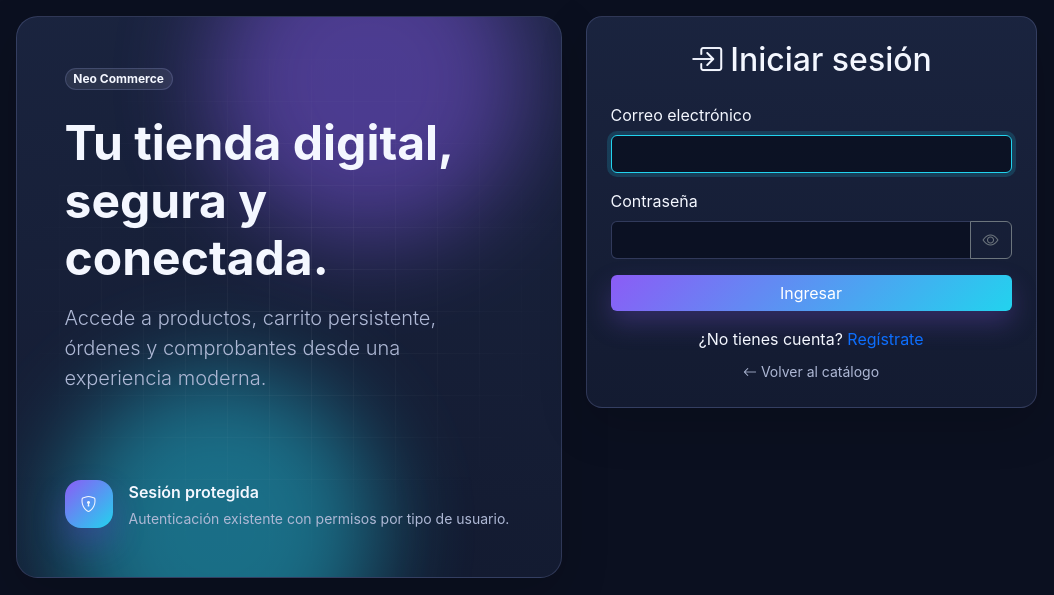
Test: LoginPage › login 401 muestra "Credenciales inválidas."
Type "a@b.com" into the field labelled "Correo electrónico".
click(811, 154); type("a@b.com")  # box [610, 135, 1012, 173]
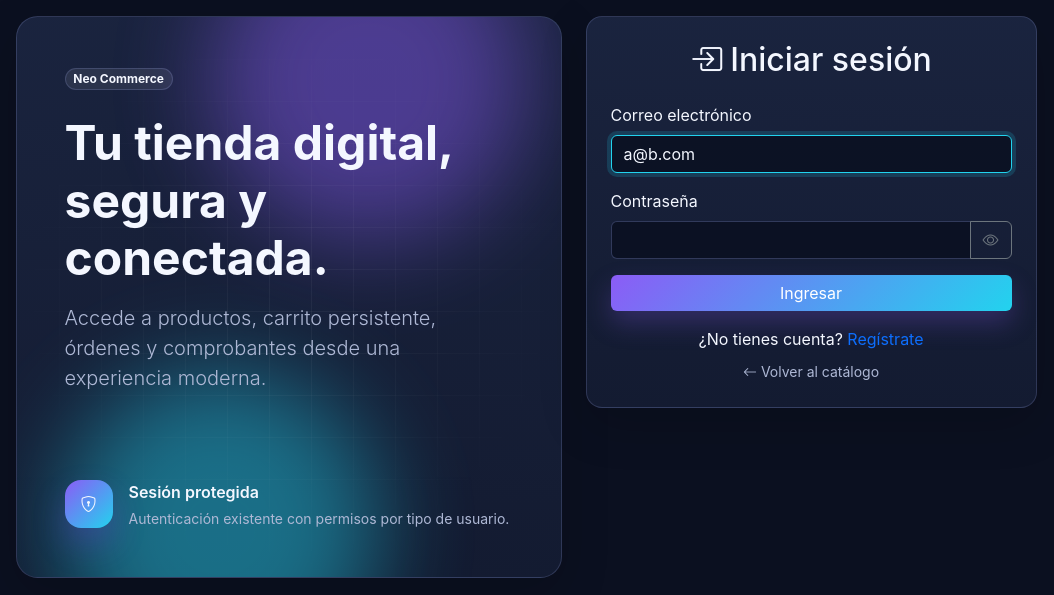
Type "wrong" into the password field labelled "Contraseña".
click(790, 240); type("wrong")  # box [610, 221, 970, 259]
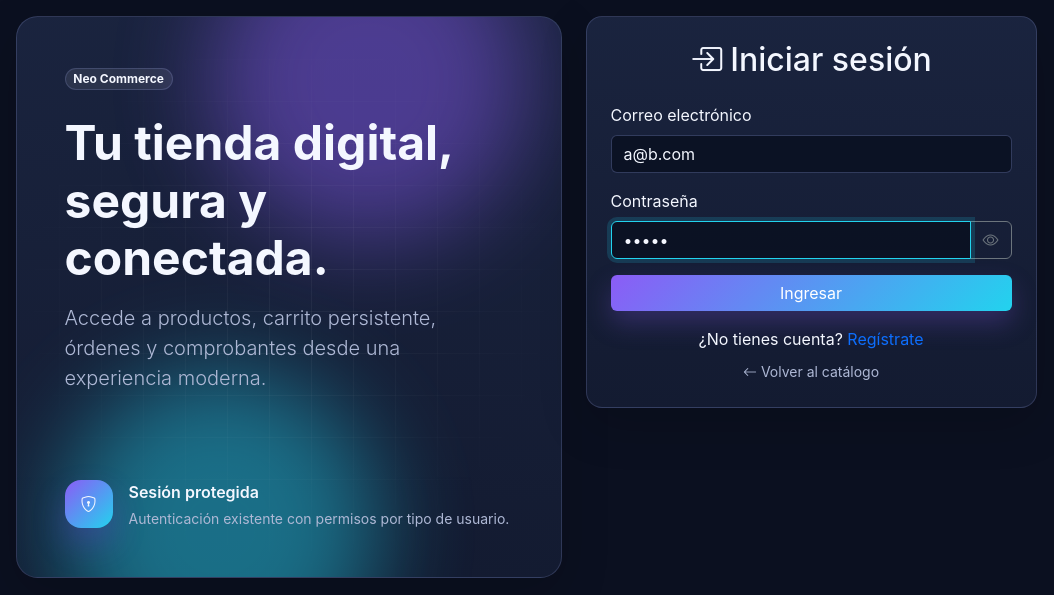
Click the button "Ingresar".
click(811, 293)  # box [610, 275, 1012, 311]
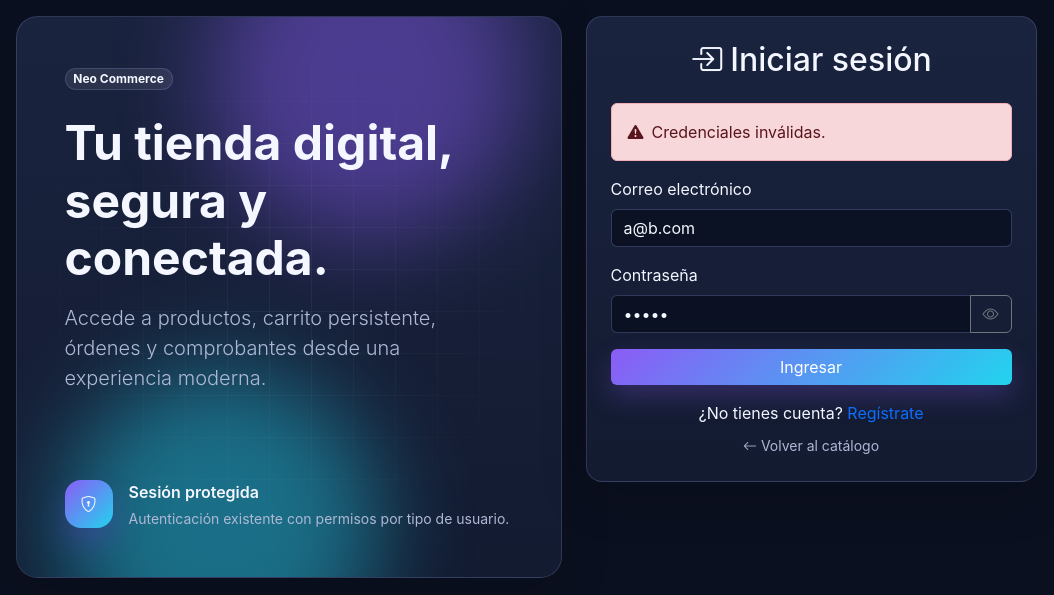
Now the text "Credenciales inválidas." is shown, box [610, 103, 1012, 161]
